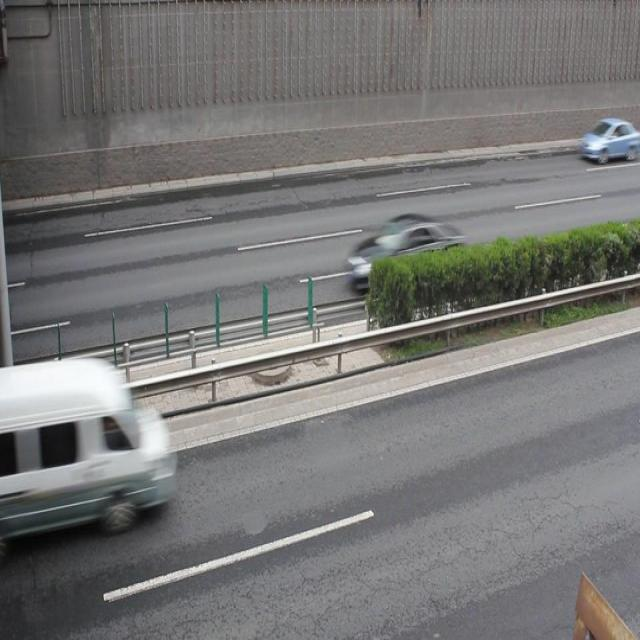car: (345, 212, 462, 300), (578, 117, 632, 164)
truck: (1, 356, 172, 544)
